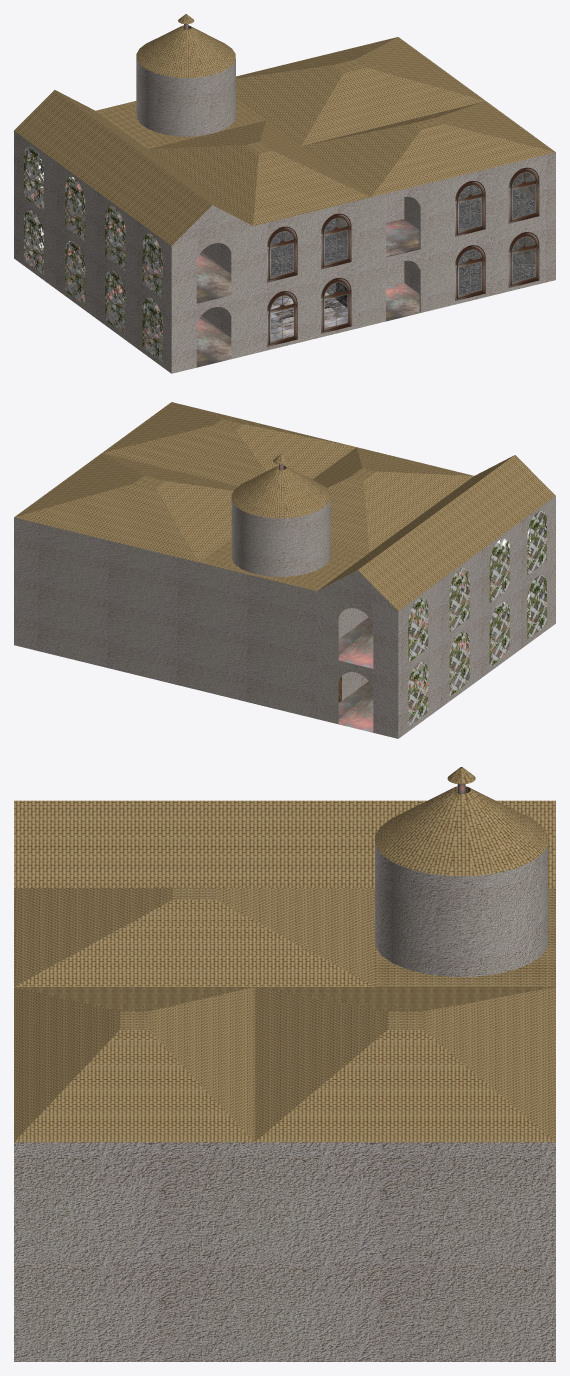
Rendered from clubhouse_mediterranean.glb.
The picture shows the model from 3 angles, top to bottom: view 1: azimuth 30°, elevation 25°; view 2: azimuth 150°, elevation 25°; view 3: azimuth 270°, elevation 25°; orthographic projection. The views are drawn at different scales.
Parts seen in each view (by area): view 1: Material3 (×5), Material2 (×4); view 2: Material2 (×3), Material3 (×2); view 3: Material3, Material2.
Part boxes in pixels (x1=…): Material3 (×5): x1=14, y1=14, x2=555, y2=367; Material2 (×4): x1=14, y1=55, x2=555, y2=373; Material2 (×3): x1=14, y1=496, x2=555, y2=738; Material3 (×2): x1=14, y1=402, x2=555, y2=732; Material3: x1=14, y1=767, x2=555, y2=1142; Material2: x1=14, y1=843, x2=555, y2=1361.
Bounding box in the file's own units: 997 × 567 × 708.
17 materials, 15 textured.
